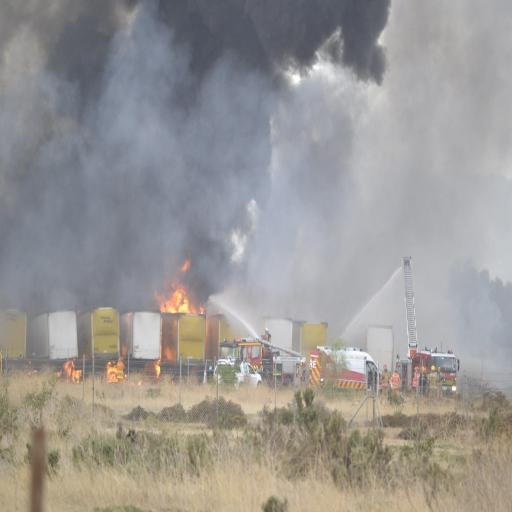fire: (154, 277, 203, 313), (157, 282, 190, 312), (57, 360, 82, 383), (106, 358, 126, 383), (106, 357, 125, 383), (145, 360, 160, 378), (106, 361, 117, 383), (72, 369, 82, 383), (162, 348, 172, 360), (28, 361, 36, 375), (181, 260, 190, 272), (154, 360, 160, 377)
smoke: (0, 0, 388, 312)
